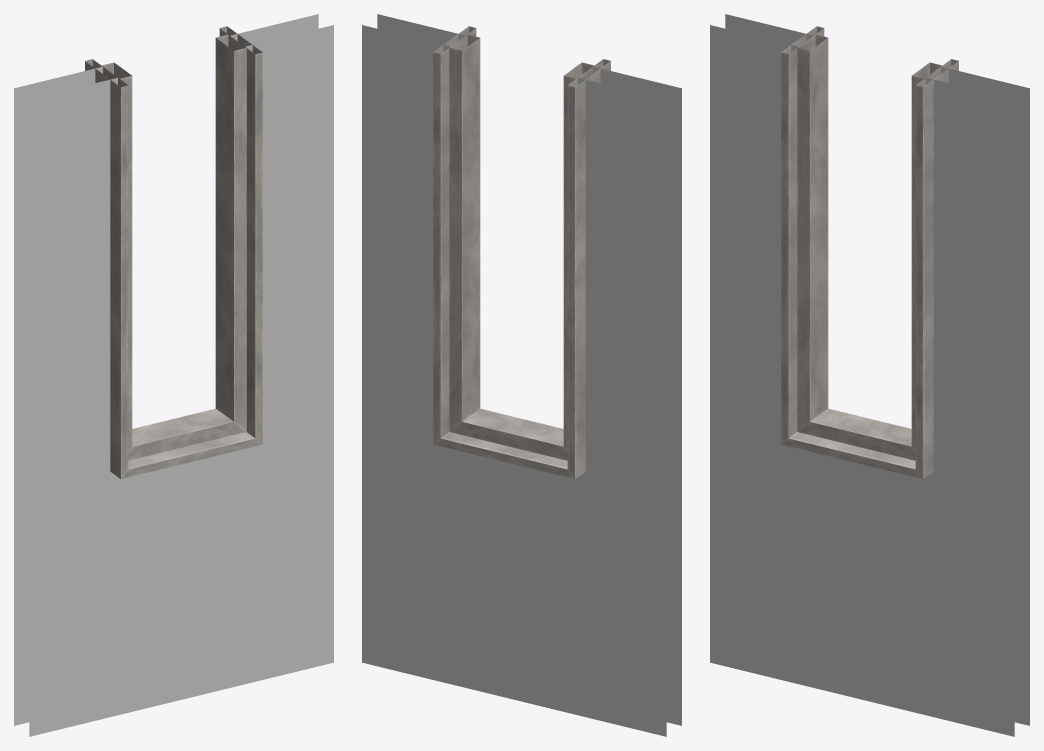
The model's file is Wall_D_F.fbx.
The picture shows the model from 3 angles, left to right: view 1: azimuth 30°, elevation 25°; view 2: azimuth 150°, elevation 25°; view 3: azimuth 330°, elevation 25°; orthographic projection.
Parts seen in each view (by area): view 1: Wall_D_F; view 2: Wall_D_F; view 3: Wall_D_F.
Boxes of the visible parts, x1,y1,x2,y2 form: Wall_D_F: (14,14,333,736); Wall_D_F: (362,14,681,736); Wall_D_F: (710,14,1029,736).
Size of the model in its own units: 3 by 0.6115 by 6.
